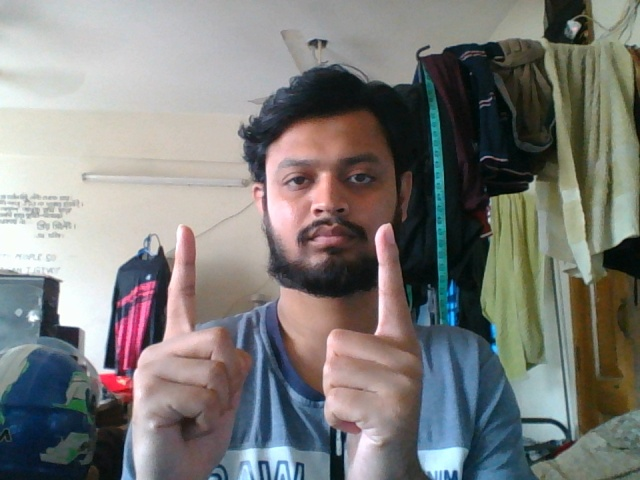ishara: (127, 220, 439, 480)
